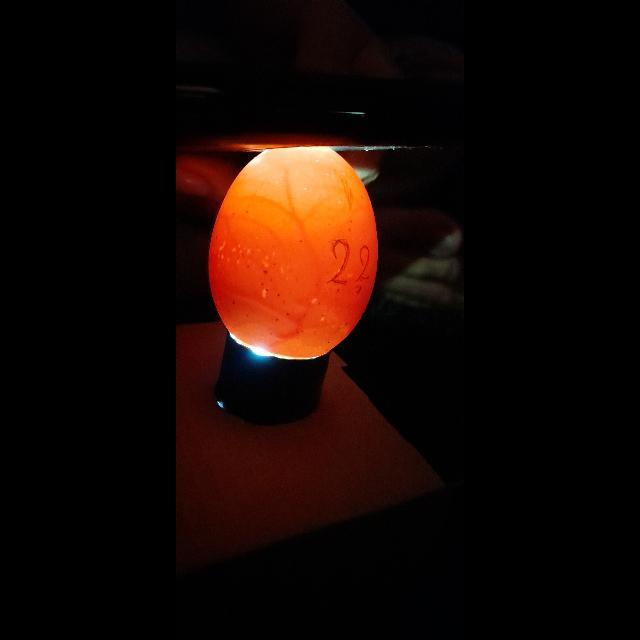Fertile: (204, 142, 386, 362)
